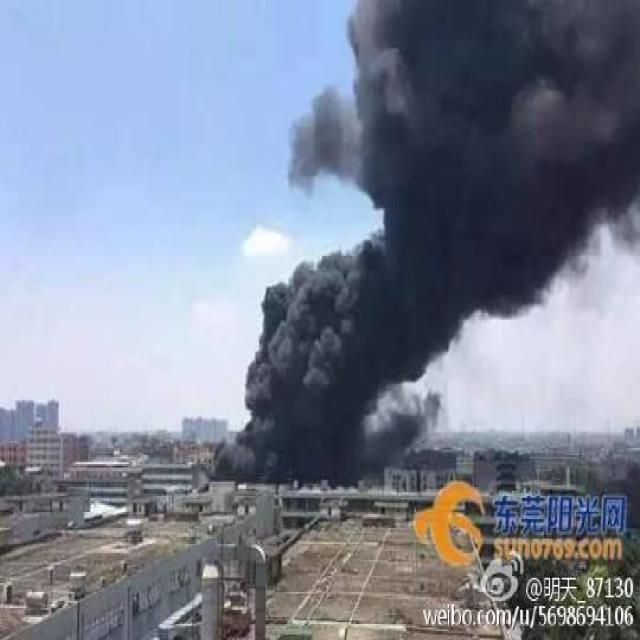smoke: (217, 0, 640, 480)
